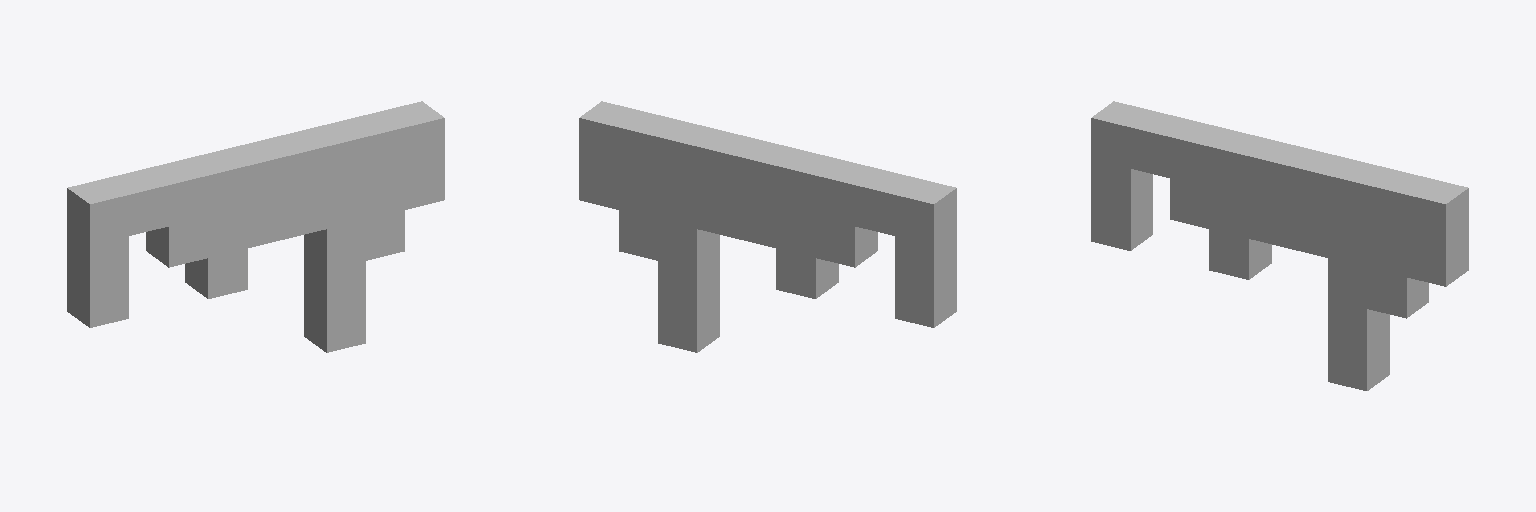
File: Triple Gun.obj
The picture shows the model from 3 angles: view 1: azimuth 30°, elevation 25°; view 2: azimuth 150°, elevation 25°; view 3: azimuth 330°, elevation 25°; orthographic projection.
Visible parts, largest first — view 1: Triple Gun; view 2: Triple Gun; view 3: Triple Gun.
Part boxes in pixels (x1,y1,x2,y2): Triple Gun: (67, 101, 444, 352); Triple Gun: (579, 101, 956, 352); Triple Gun: (1091, 101, 1468, 390).
Size of the model in its own units: 9 by 5 by 1.